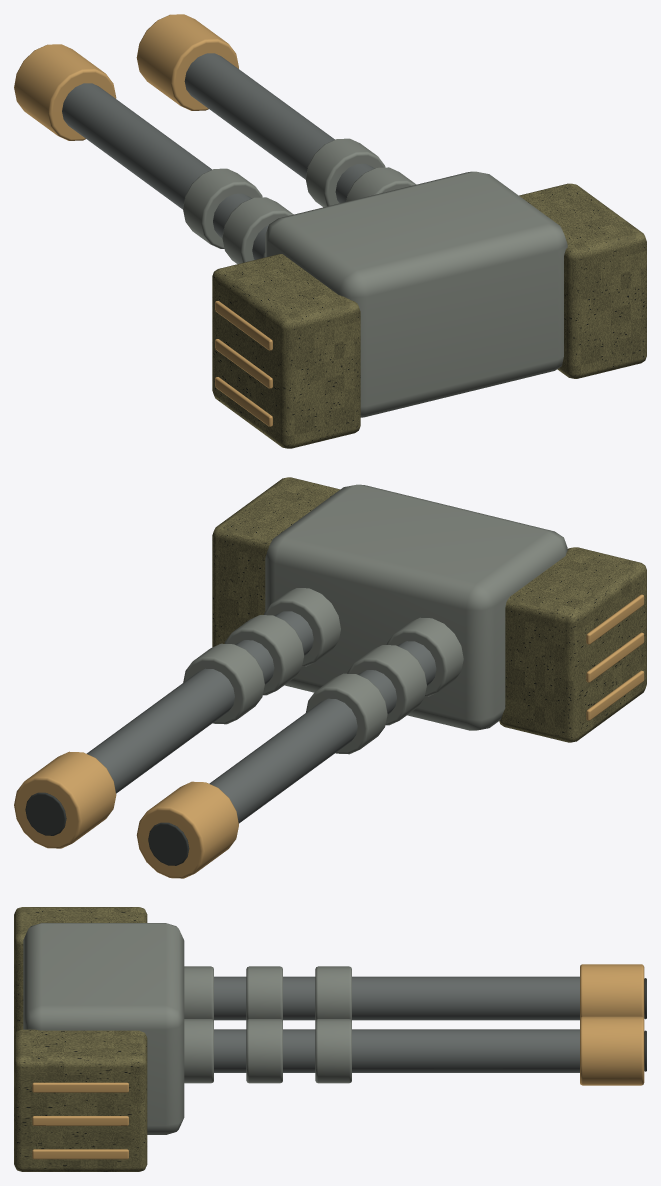
Rendered from STK-G03.fbx.
The picture shows the model from 3 angles, top to bottom: view 1: azimuth 30°, elevation 25°; view 2: azimuth 150°, elevation 25°; view 3: azimuth 270°, elevation 25°; orthographic projection. The views are drawn at different scales.
Parts seen in each view (by area): view 1: STK-G03_Edge, STK-G03_Armor, STK-G03_Steel, STK-G03_Brass; view 2: STK-G03_Edge, STK-G03_Armor, STK-G03_Steel, STK-G03_Brass, STK-G03_Rubber; view 3: STK-G03_Edge, STK-G03_Steel, STK-G03_Armor, STK-G03_Brass.
Part boxes in pixels (x1,y1,x2,y2): STK-G03_Edge: [183, 138, 567, 417]; STK-G03_Armor: [212, 183, 646, 448]; STK-G03_Steel: [62, 53, 374, 259]; STK-G03_Brass: [14, 14, 272, 426]; STK-G03_Edge: [183, 484, 567, 754]; STK-G03_Armor: [212, 477, 646, 742]; STK-G03_Steel: [86, 611, 436, 823]; STK-G03_Brass: [14, 594, 644, 878]; STK-G03_Rubber: [25, 792, 189, 865]; STK-G03_Edge: [23, 923, 351, 1134]; STK-G03_Steel: [214, 976, 579, 1072]; STK-G03_Armor: [14, 907, 147, 1171]; STK-G03_Brass: [32, 964, 644, 1159].
Bounding box in the file's own units: 165 × 63.5 × 275.
